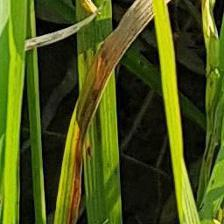2 BacterialBlight: (59, 6, 145, 211)
